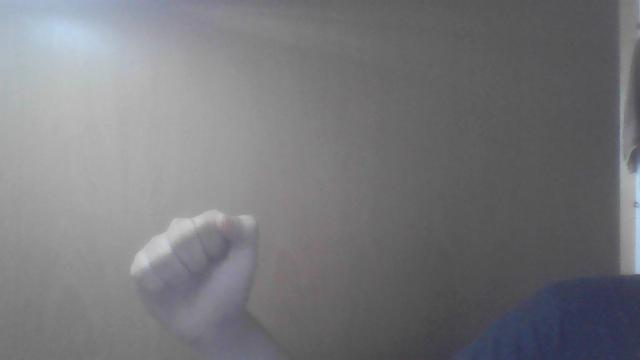forward: (129, 208, 291, 360)
